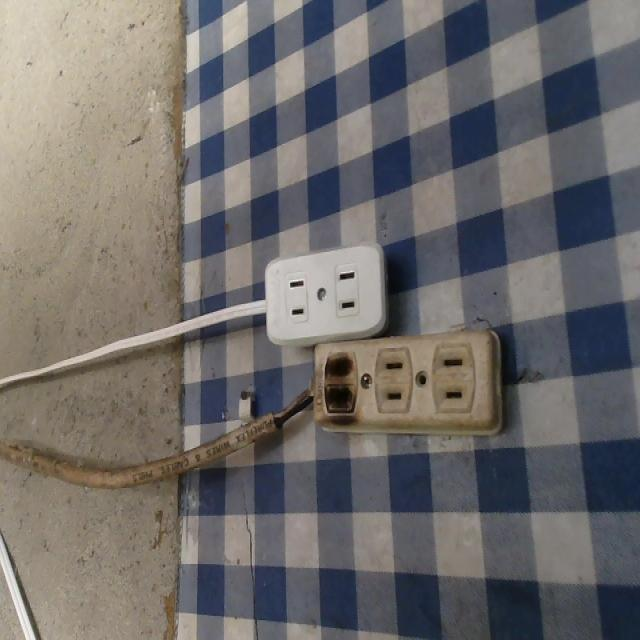-: (316, 342, 361, 426)
